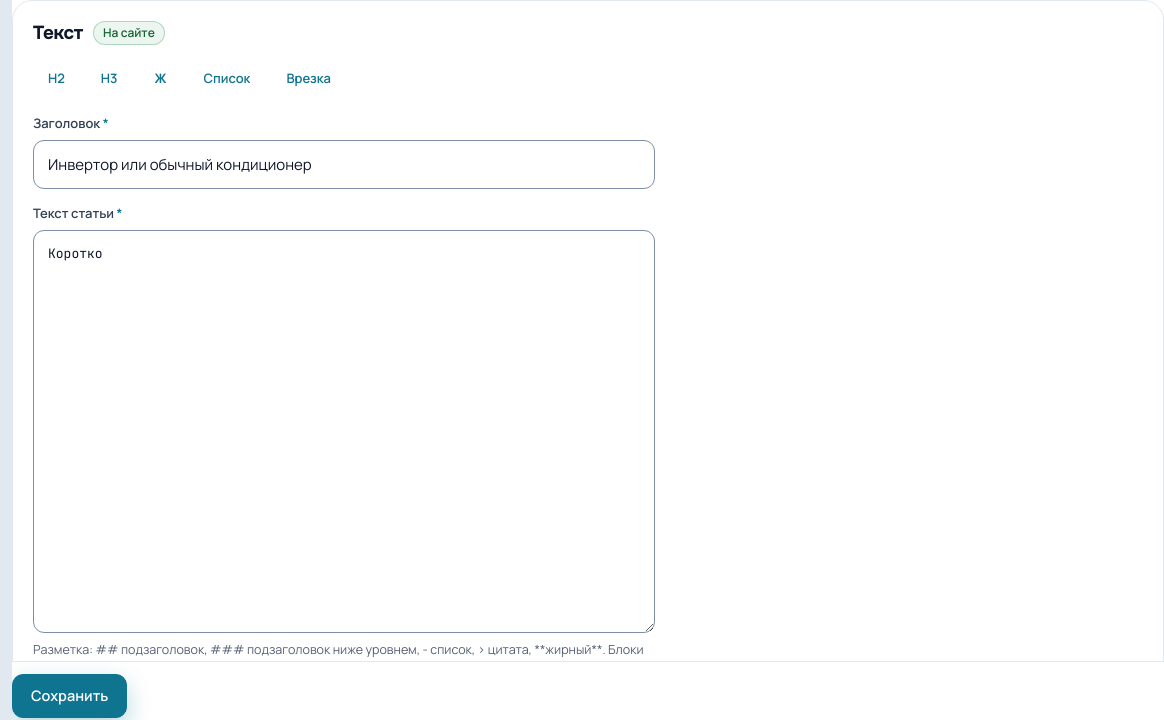
it: Панель инструментов редактора › размечает выделенную строку подзаголовком
Click the text box labelled "Текст статьи *" at (344, 432), box [33,230,655,633]
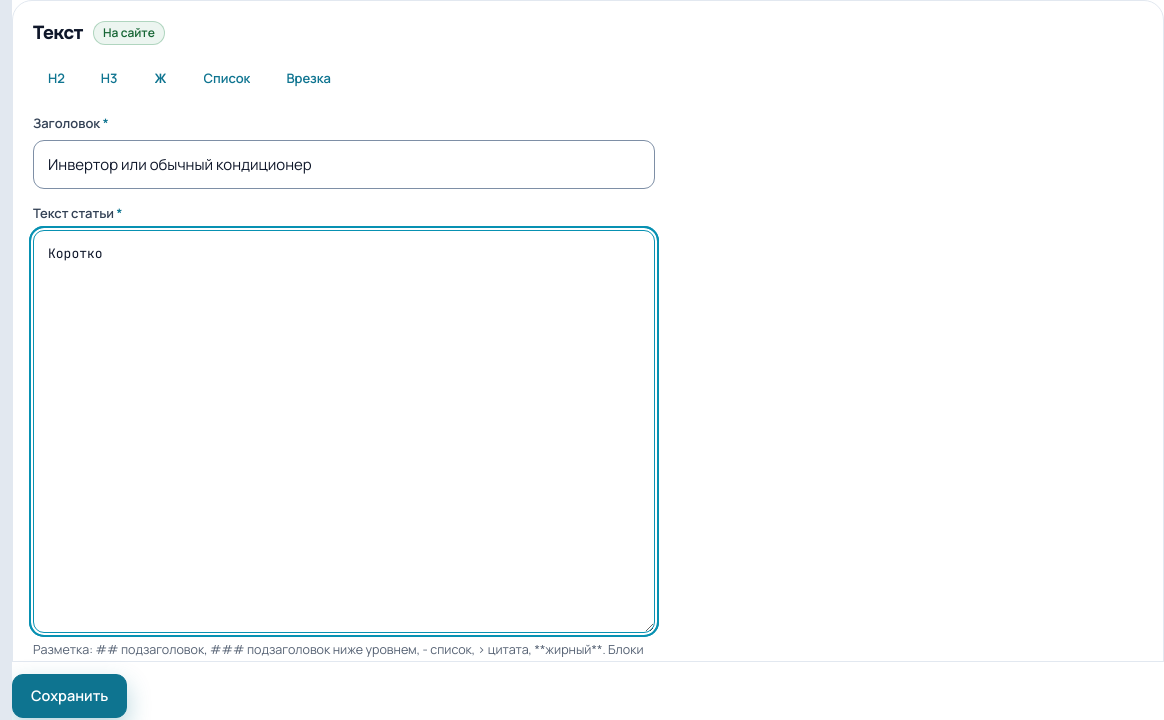
Click the button named "Подзаголовок" at (56, 79), box [33,59,80,99]
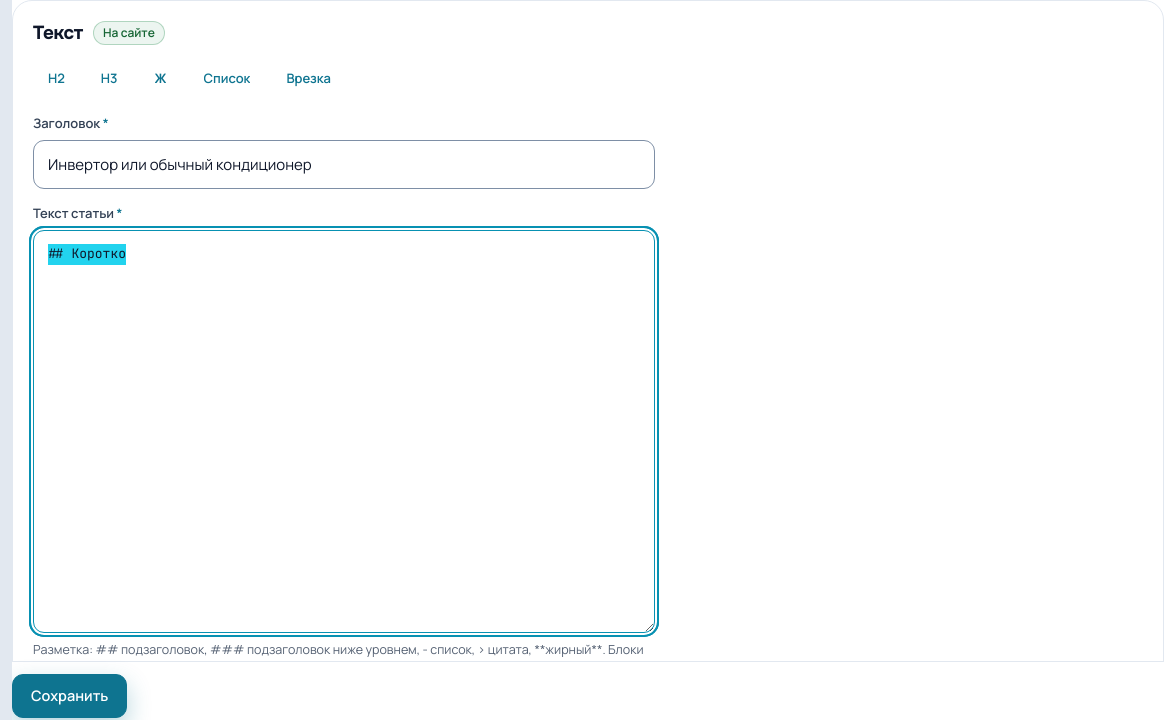
Now the text box labelled "Текст статьи *" holds "## Коротко", box [33,230,655,633]
